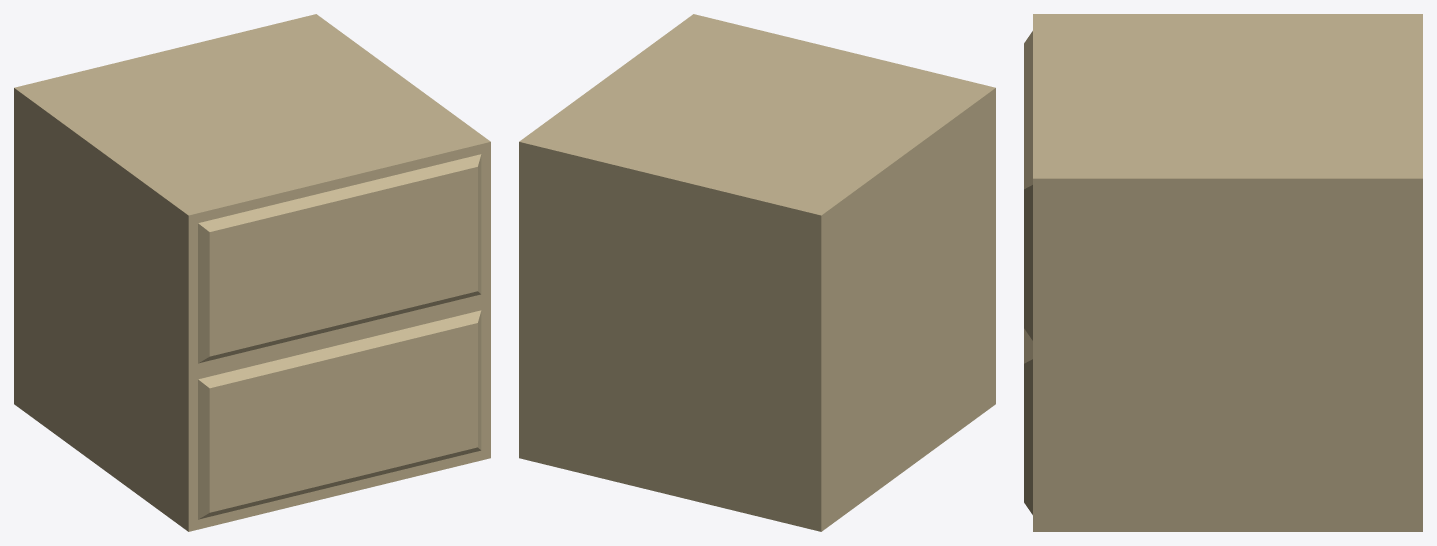
File: Shelf.glb
3 renders of one model, left to right at view 1: azimuth 30°, elevation 25°; view 2: azimuth 150°, elevation 25°; view 3: azimuth 270°, elevation 25°, orthographic. The views are drawn at different scales.
Visible parts, largest first — view 1: LockerSmall; view 2: LockerSmall; view 3: LockerSmall.
Part boxes in pixels (x1=…): LockerSmall: x1=14, y1=14, x2=490, y2=531; LockerSmall: x1=519, y1=14, x2=995, y2=531; LockerSmall: x1=1024, y1=14, x2=1422, y2=531.
Bounding box in the file's own units: 1 × 1 × 1.02.
